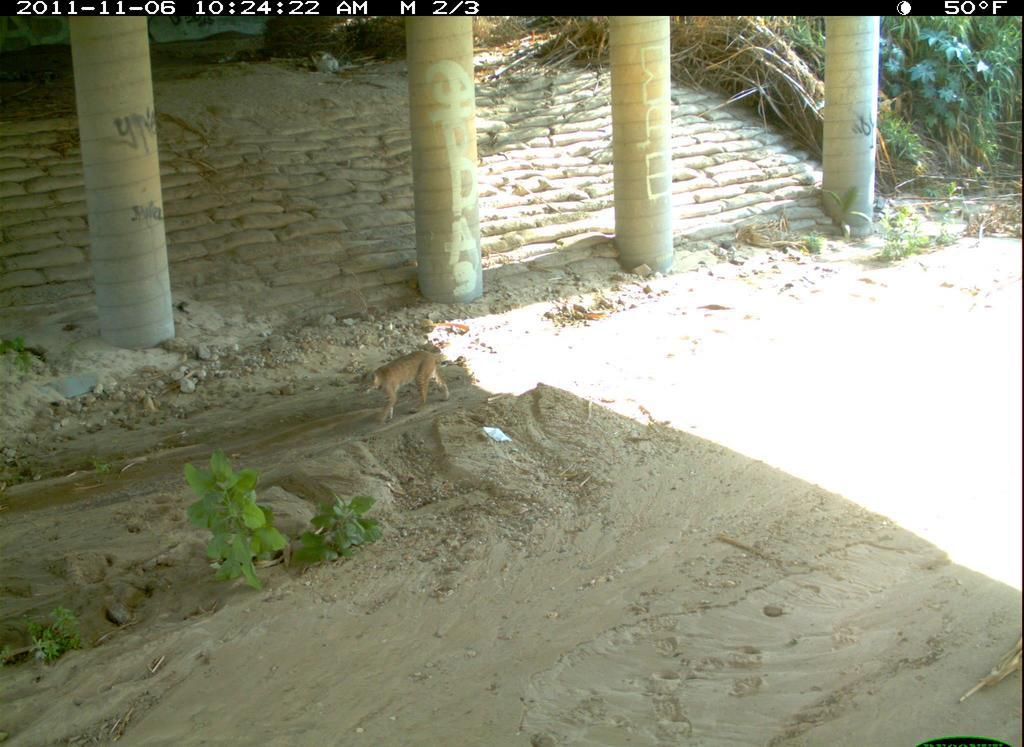bobcat: (708, 692, 912, 747)
